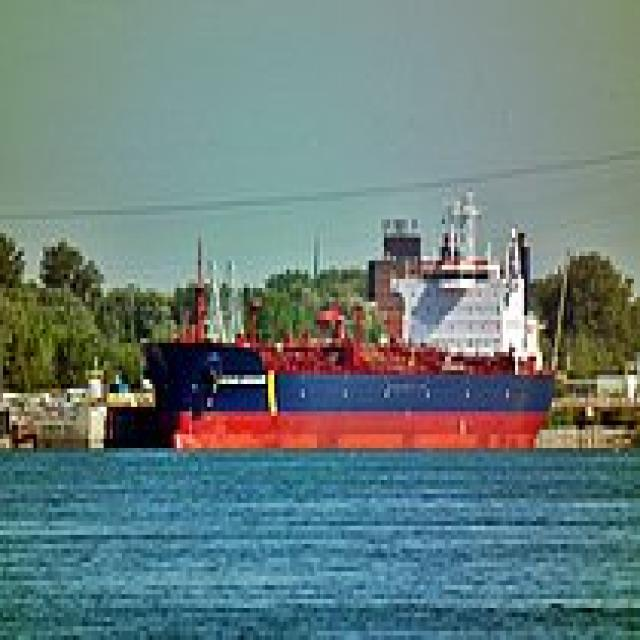Tanker: (134, 183, 552, 443)
